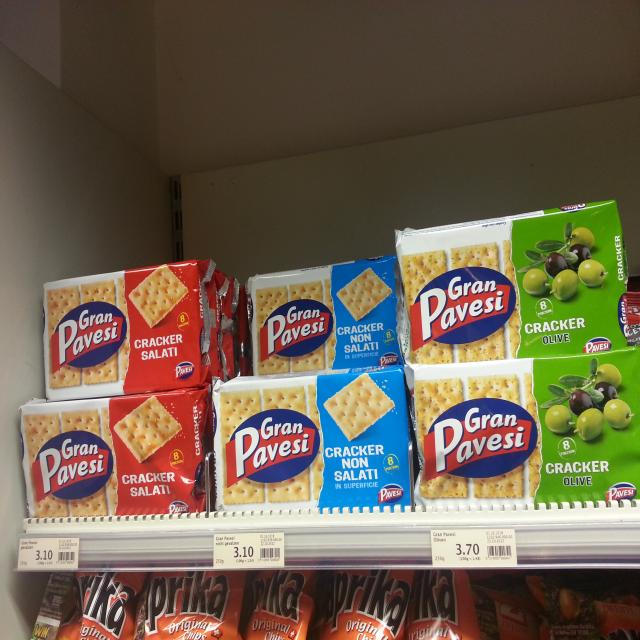Snacks: (394, 200, 626, 362), (412, 351, 640, 503), (214, 378, 420, 508), (42, 259, 224, 402), (20, 401, 211, 516), (252, 253, 406, 373)
